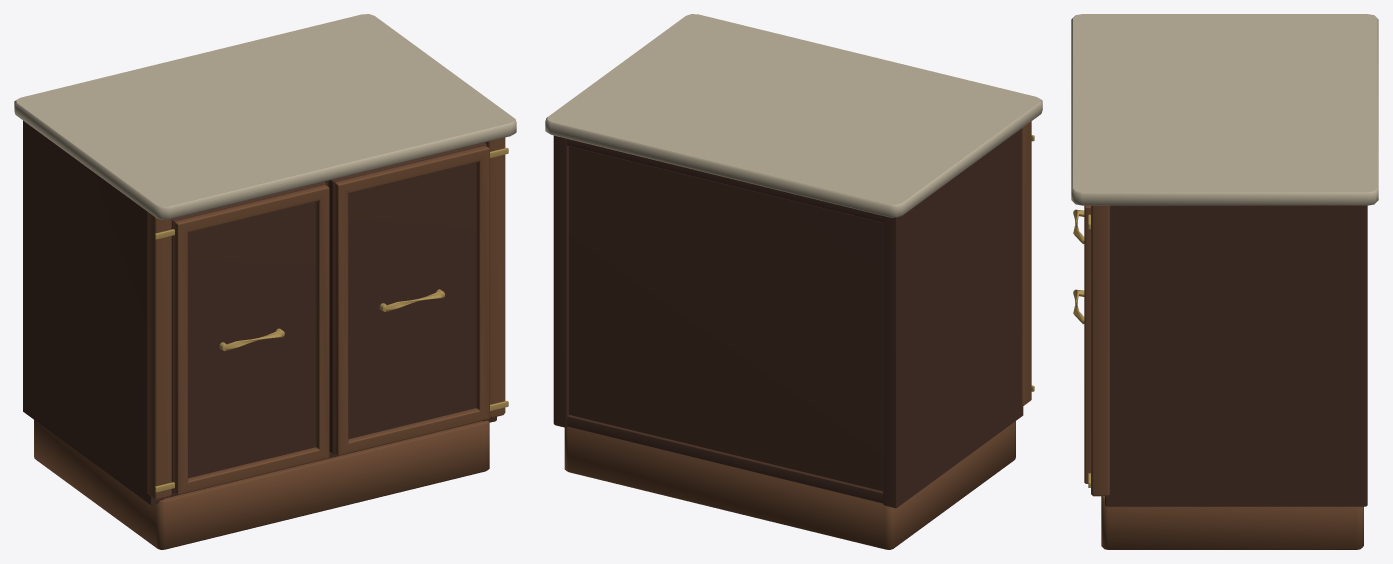
Rendered from rpg-mansion-kitchen-double-door-900-01.glb.
3 renders of one model, left to right at view 1: azimuth 30°, elevation 25°; view 2: azimuth 150°, elevation 25°; view 3: azimuth 270°, elevation 25°, orthographic. The views are drawn at different scales.
Parts seen in each view (by area): view 1: rpg-mansion-kitchen-double-door-900-01; view 2: rpg-mansion-kitchen-double-door-900-01; view 3: rpg-mansion-kitchen-double-door-900-01.
Boxes of the visible parts, left/top/right/bottom form: rpg-mansion-kitchen-double-door-900-01: left=14, top=14, right=516, bottom=549; rpg-mansion-kitchen-double-door-900-01: left=545, top=14, right=1042, bottom=549; rpg-mansion-kitchen-double-door-900-01: left=1071, top=14, right=1378, bottom=549.
Bounding box in the file's own units: 0.9 × 0.85 × 0.65.
